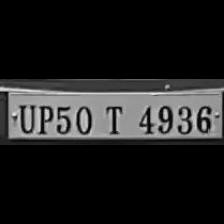0: (71, 102, 95, 134)
3: (174, 101, 192, 135)
4: (132, 101, 156, 135)
5: (52, 102, 72, 134)
6: (192, 100, 214, 134)
9: (153, 102, 173, 134)
P: (34, 102, 54, 134)
T: (99, 101, 129, 135)
U: (15, 100, 35, 134)
